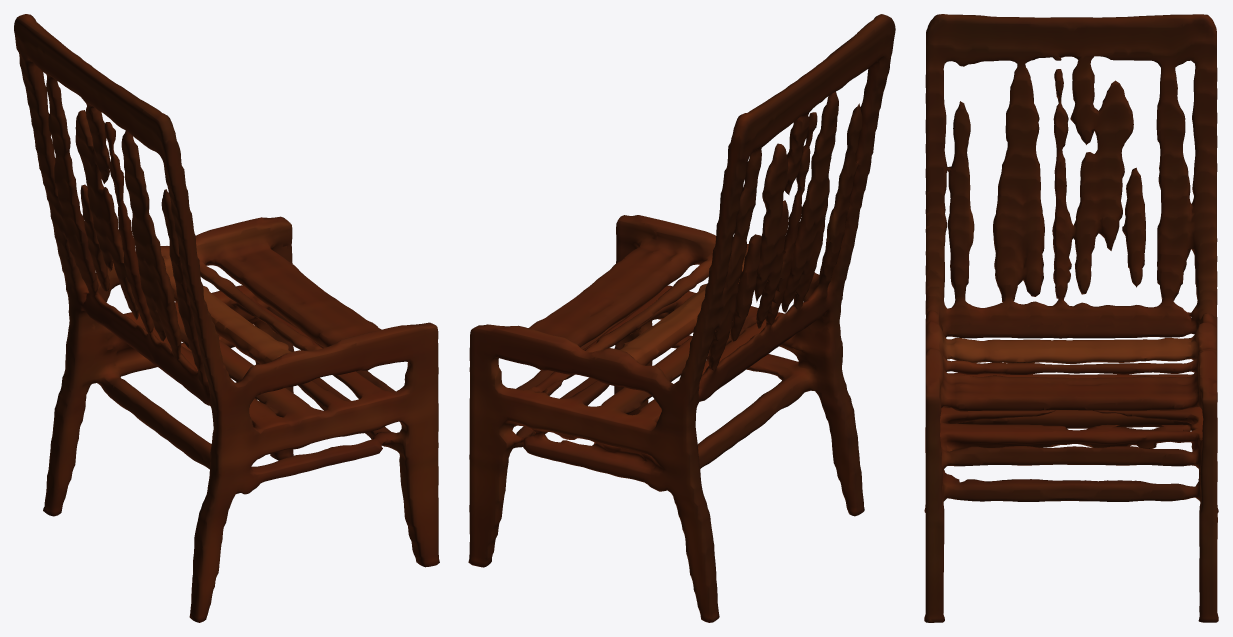
The model's file is double seated chair made of wood on the top and St.glb.
3 views of the same model, side by side, from view 1: azimuth 30°, elevation 25°; view 2: azimuth 150°, elevation 25°; view 3: azimuth 270°, elevation 25° (orthographic). The views are drawn at different scales.
Visible parts, largest first — view 1: double seated chair made of wood on the top and St; view 2: double seated chair made of wood on the top and St; view 3: double seated chair made of wood on the top and St.
Part boxes in pixels (<box>): double seated chair made of wood on the top and St: <box>14,14,439,622</box>; double seated chair made of wood on the top and St: <box>468,14,895,622</box>; double seated chair made of wood on the top and St: <box>924,14,1218,622</box>.
Bounding box in the file's own units: 1.12 × 1.97 × 1.09.
